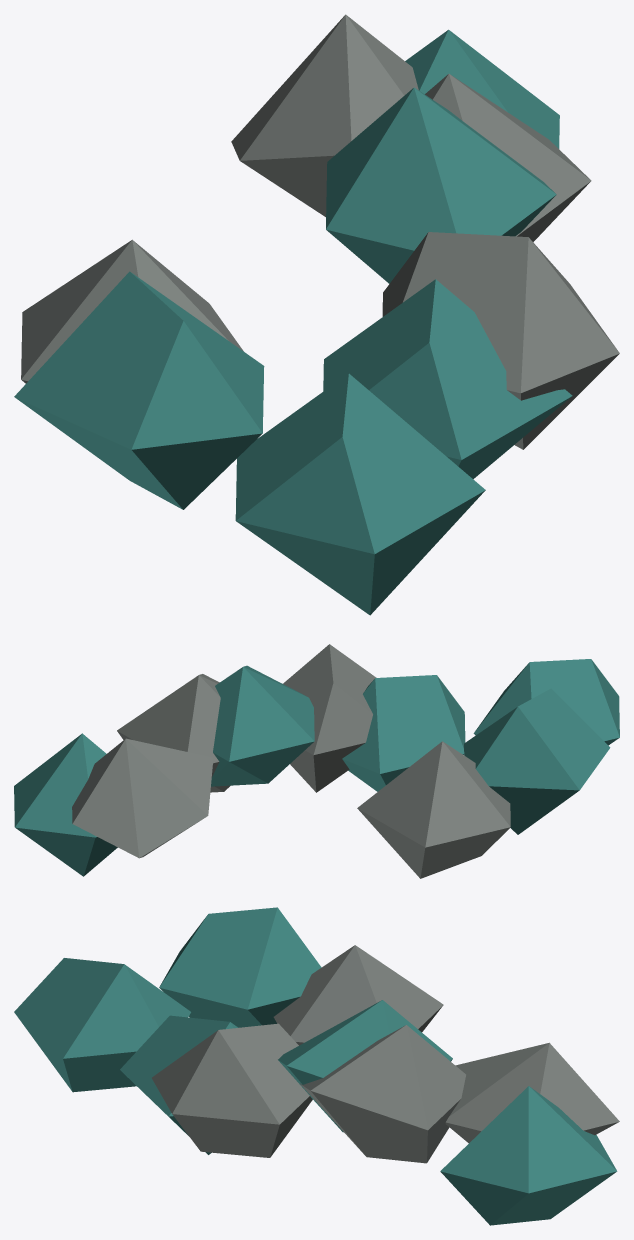
File: coast-reef.lod2.glb
3 renders of one model, top to bottom at view 1: azimuth 30°, elevation 25°; view 2: azimuth 150°, elevation 25°; view 3: azimuth 270°, elevation 25°, orthographic. The views are drawn at different scales.
Visible parts, largest first — view 1: coast-reef__body; view 2: coast-reef__body; view 3: coast-reef__body.
Part boxes in pixels (<box>): coast-reef__body: <box>14,14,619,615</box>; coast-reef__body: <box>14,644,619,878</box>; coast-reef__body: <box>14,907,619,1225</box>.
Size of the model in its own units: 4.85 by 1.88 by 5.4.
